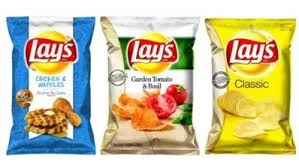plastic: (3, 11, 298, 161)
wrapper: (99, 14, 202, 158), (204, 16, 299, 158), (4, 15, 98, 157)
